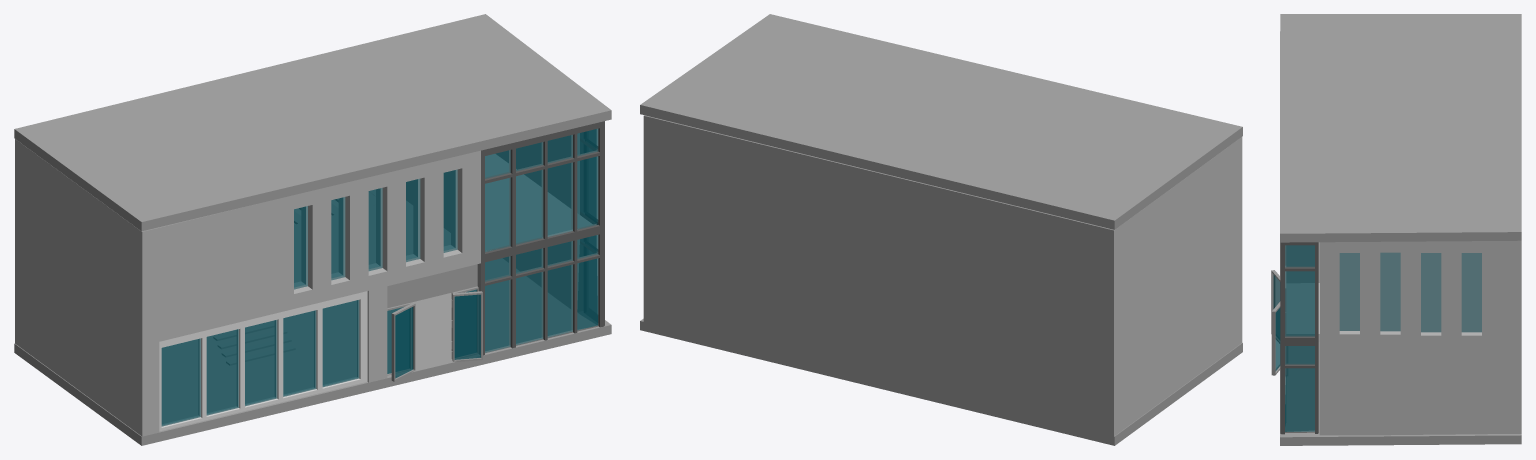
Rendered from Chase_building.fbx.
3 views of the same model, side by side, from view 1: azimuth 30°, elevation 25°; view 2: azimuth 150°, elevation 25°; view 3: azimuth 270°, elevation 25° (orthographic). The views are drawn at different scales.
Parts seen in each view (by area): view 1: building_base, roof, foundation, Window_wide, pCube3, pCube2, pCylinder6, pCylinder5, stairs; view 2: building_base, roof, foundation; view 3: roof, building_base, foundation, pCube3, pCube2.
Part boxes in pixels (bbox=[...]): building_base: bbox=[15, 121, 604, 436]; roof: bbox=[14, 14, 611, 231]; foundation: bbox=[14, 258, 611, 445]; Window_wide: bbox=[159, 291, 367, 431]; pCube3: bbox=[452, 291, 482, 361]; pCube2: bbox=[391, 302, 415, 381]; pCylinder6: bbox=[451, 286, 478, 358]; pCylinder5: bbox=[387, 302, 411, 375]; stairs: bbox=[213, 322, 295, 365]; building_base: bbox=[643, 115, 1242, 437]; roof: bbox=[640, 14, 1242, 229]; foundation: bbox=[640, 318, 1242, 445]; roof: bbox=[1280, 14, 1521, 242]; building_base: bbox=[1280, 240, 1521, 435]; foundation: bbox=[1280, 243, 1521, 445]; pCube3: bbox=[1271, 301, 1280, 375]; pCube2: bbox=[1271, 270, 1280, 343].
Size of the model in its own units: 16.1 by 7.39 by 7.8.
